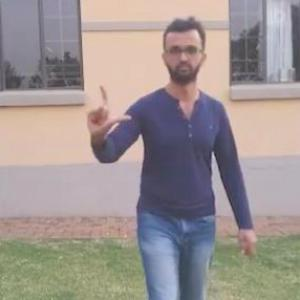land_hand: (83, 76, 139, 142)
